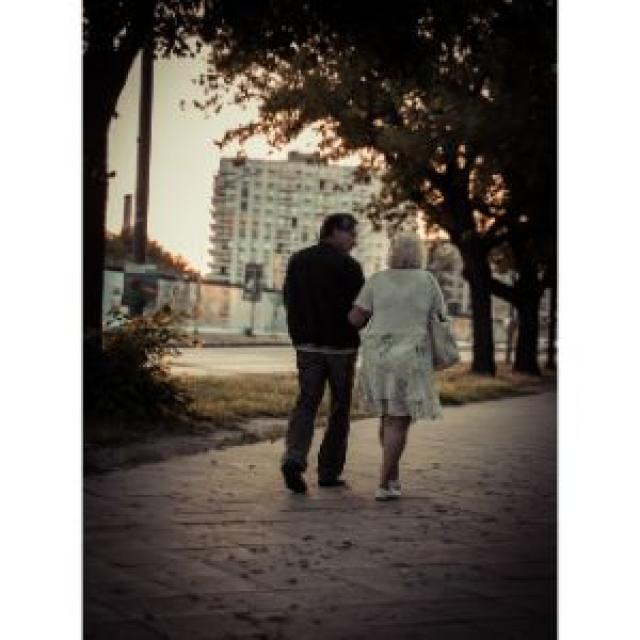nonfall: (256, 194, 360, 496), (362, 225, 454, 510)
